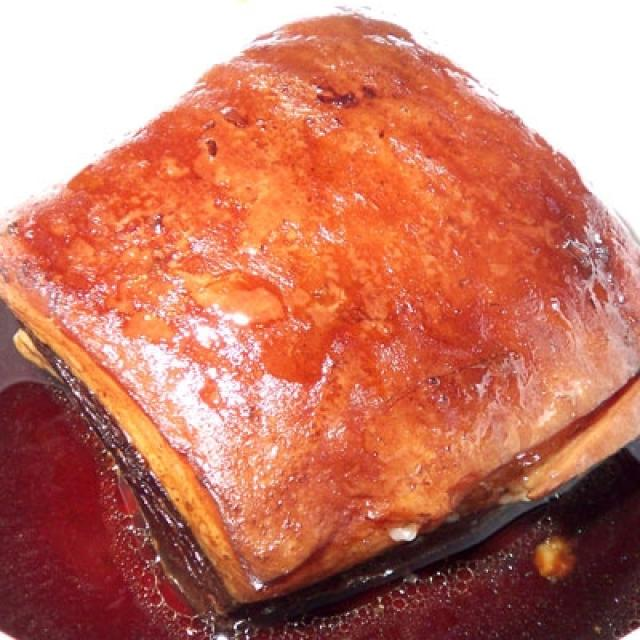牛肉菜式: (27, 10, 616, 608)
